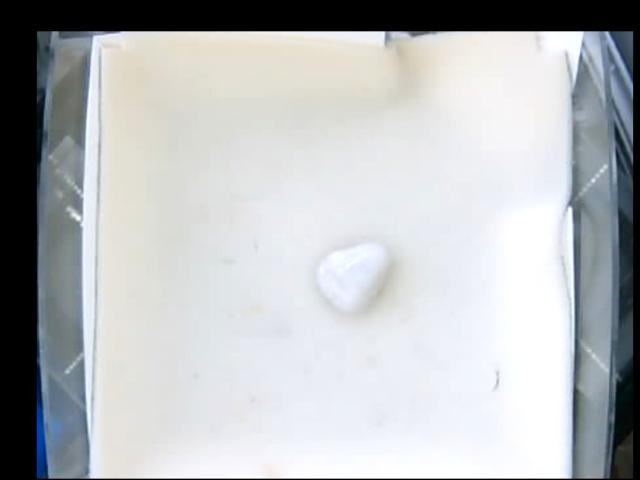Pebble: (315, 242, 391, 315)
